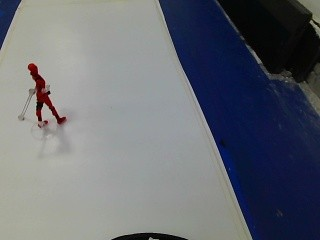pedestrian: (20, 59, 70, 133)
